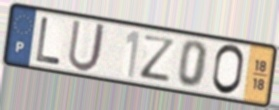0: (176, 38, 209, 91)
1: (125, 30, 141, 80)
L: (33, 15, 63, 67)
O: (209, 43, 246, 98)
U: (66, 18, 108, 74)
Z: (139, 33, 178, 84)
